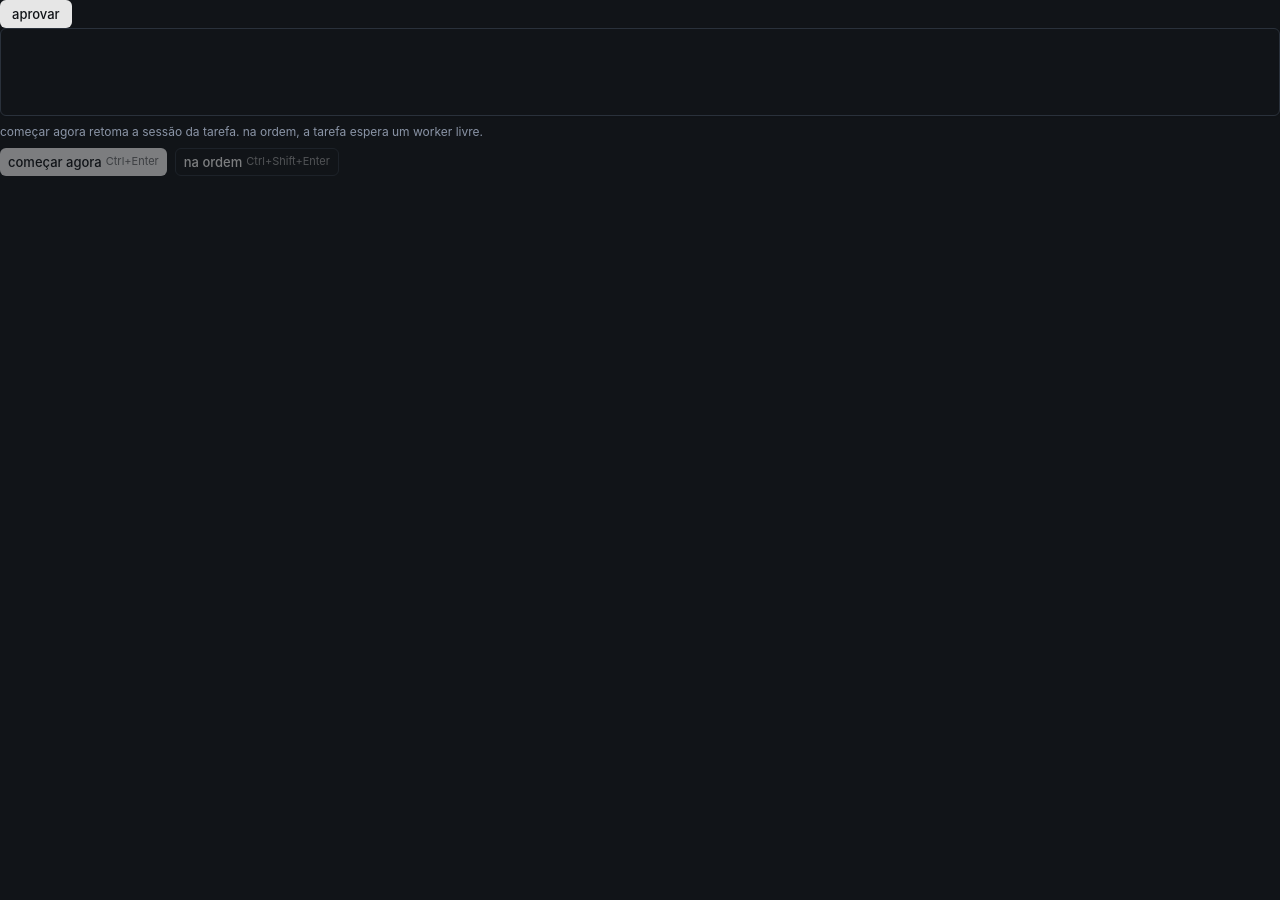
Test: cancelar, Escape and a click outside send nothing and show no toast (#469)
Click the button "aprovar": click(36, 14) [0, 0, 72, 28]
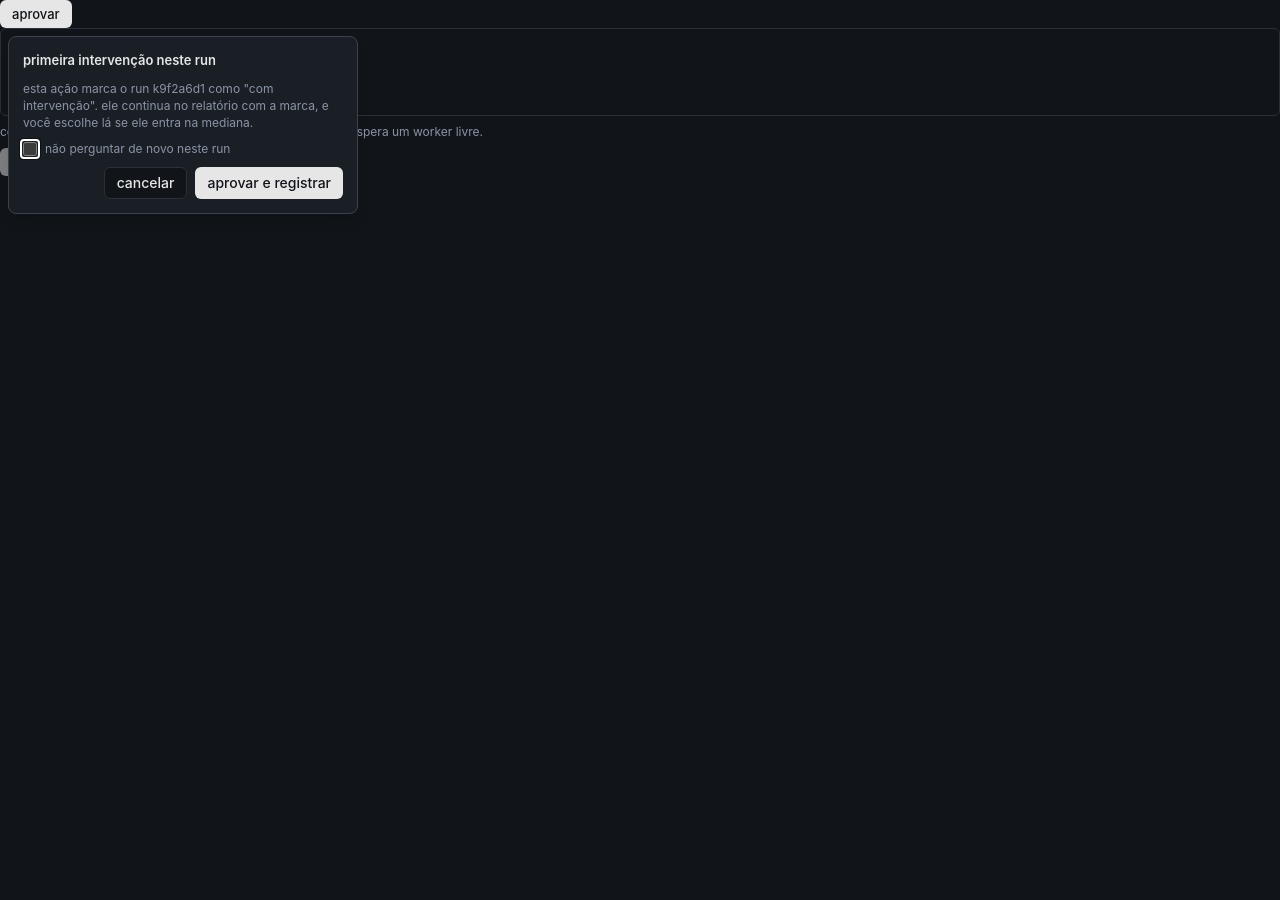
Click the button "cancelar": click(146, 183) [104, 167, 188, 199]
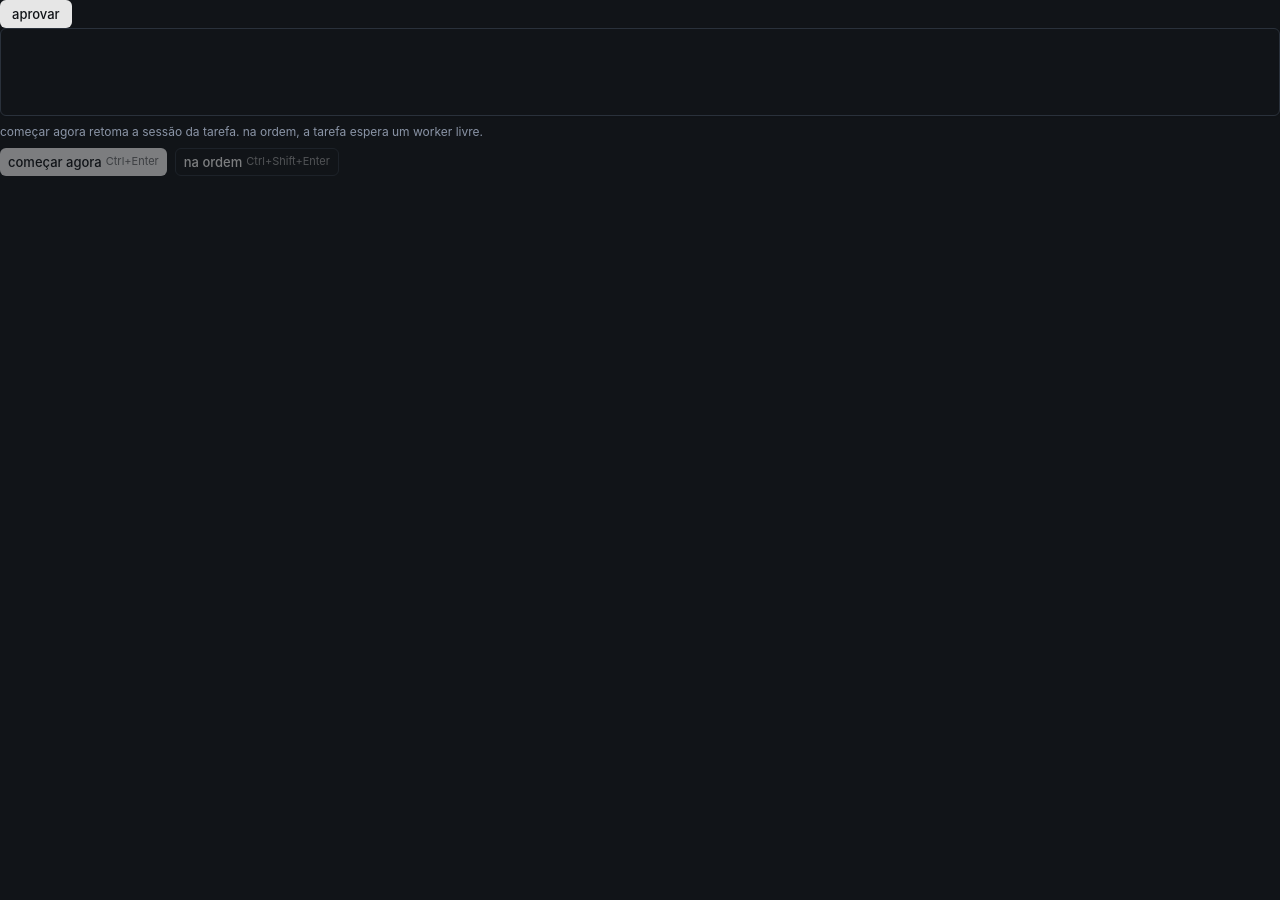
Now the dialog is gone
Click the button "aprovar": click(36, 14) [0, 0, 72, 28]
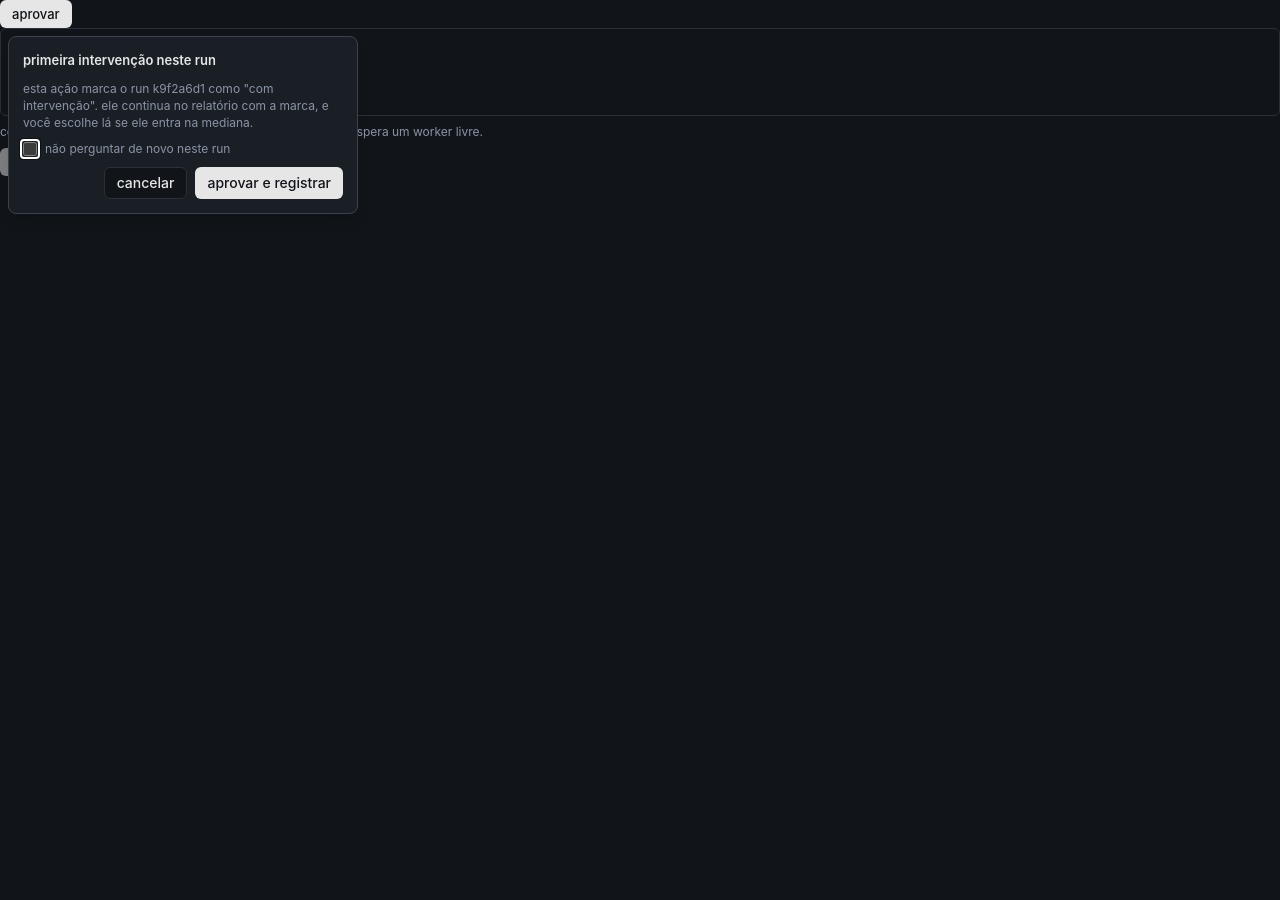
Press Escape
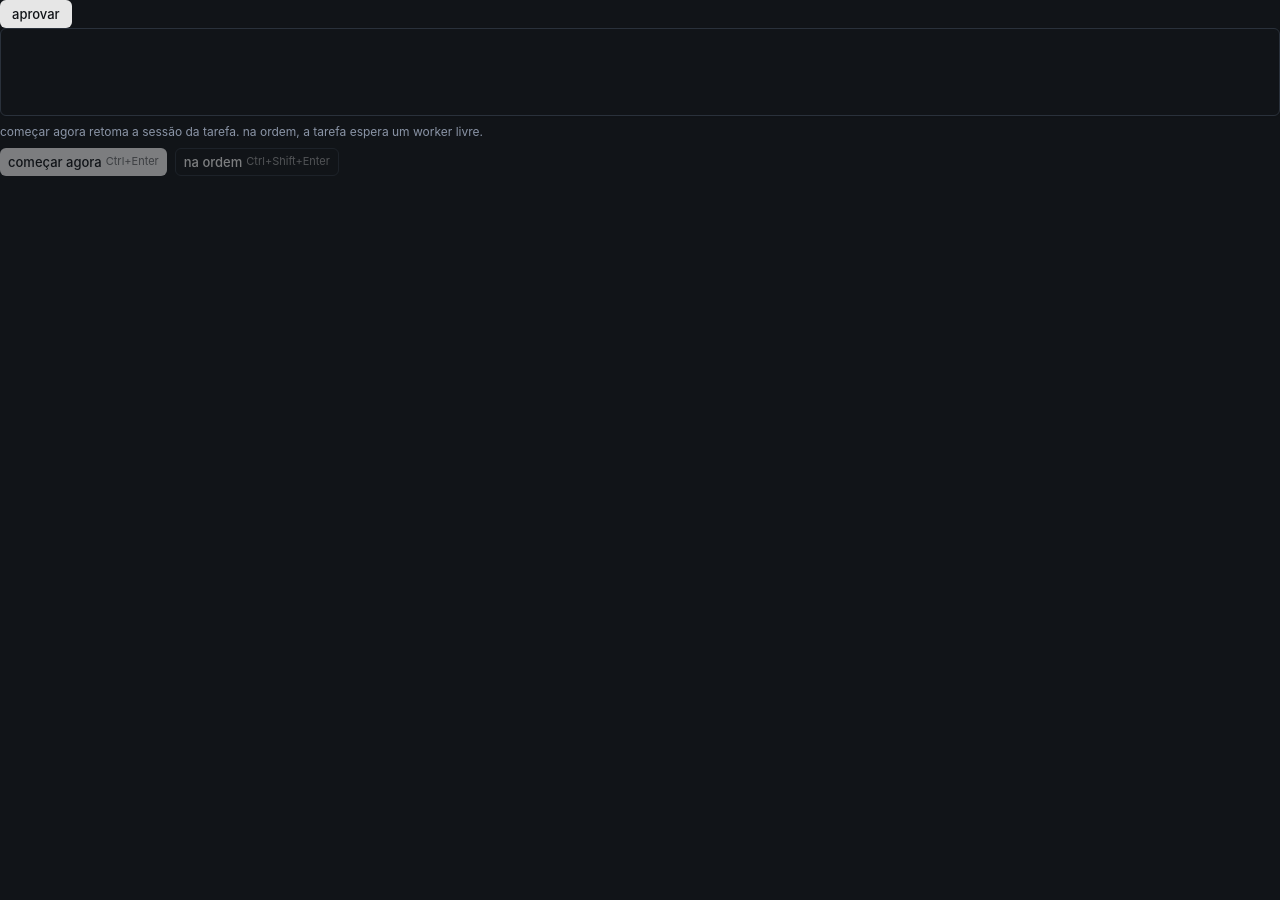
Now the dialog is gone
Click the button "aprovar": click(36, 14) [0, 0, 72, 28]
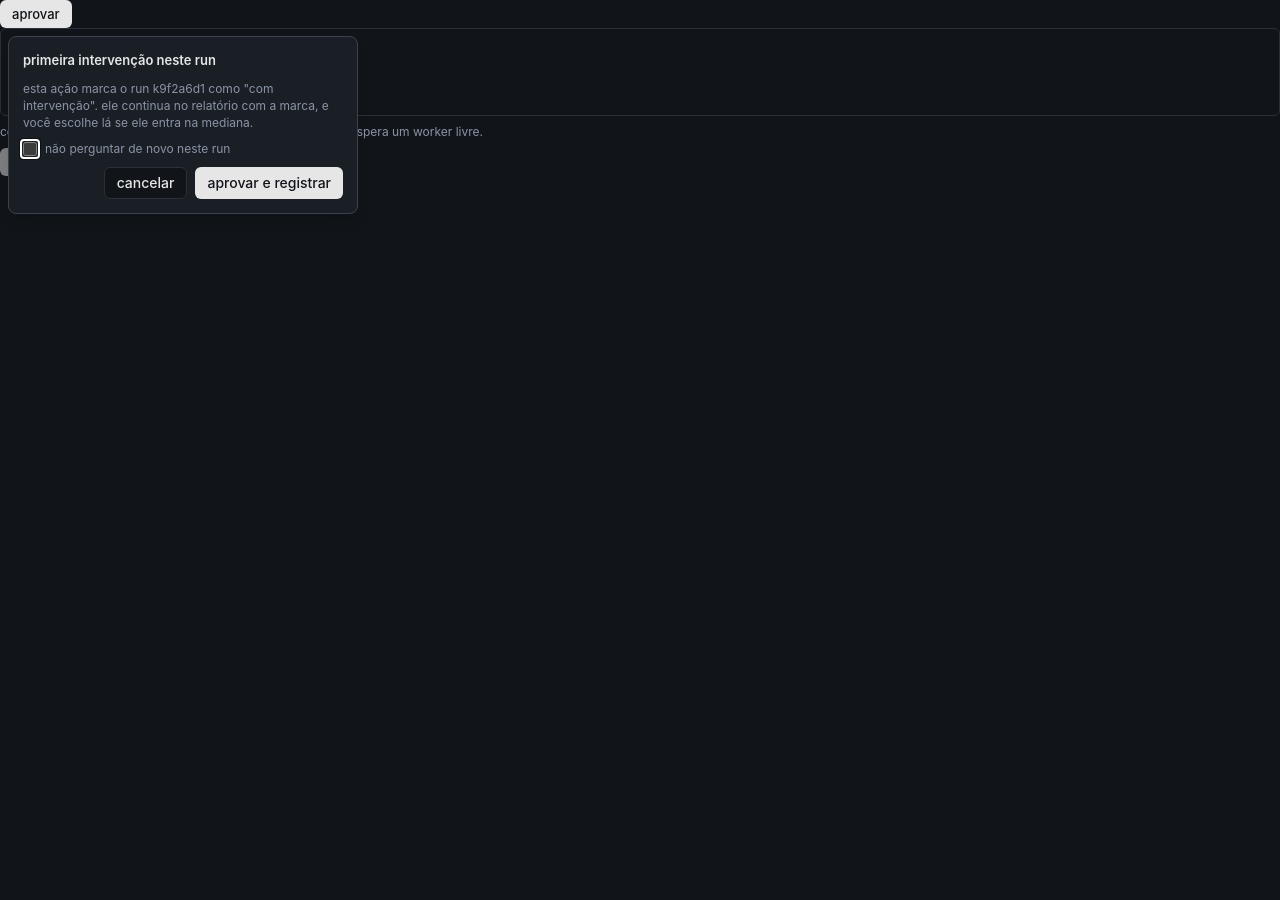
Click the element that starts with "aprovar": click(640, 88) [0, 0, 1279, 176]
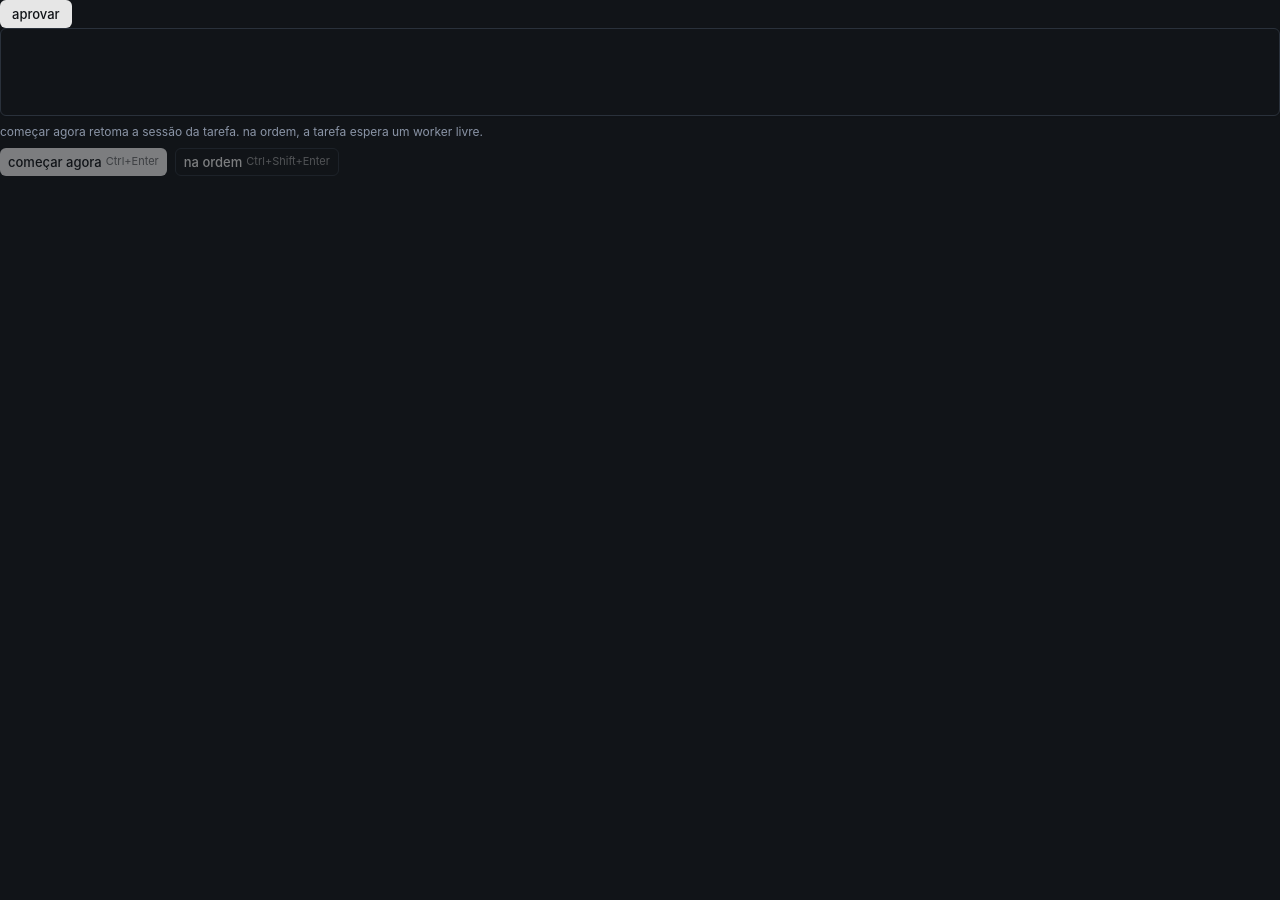
Now the dialog is gone
